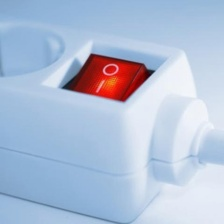three_eye_plug: (0, 12, 208, 224)
